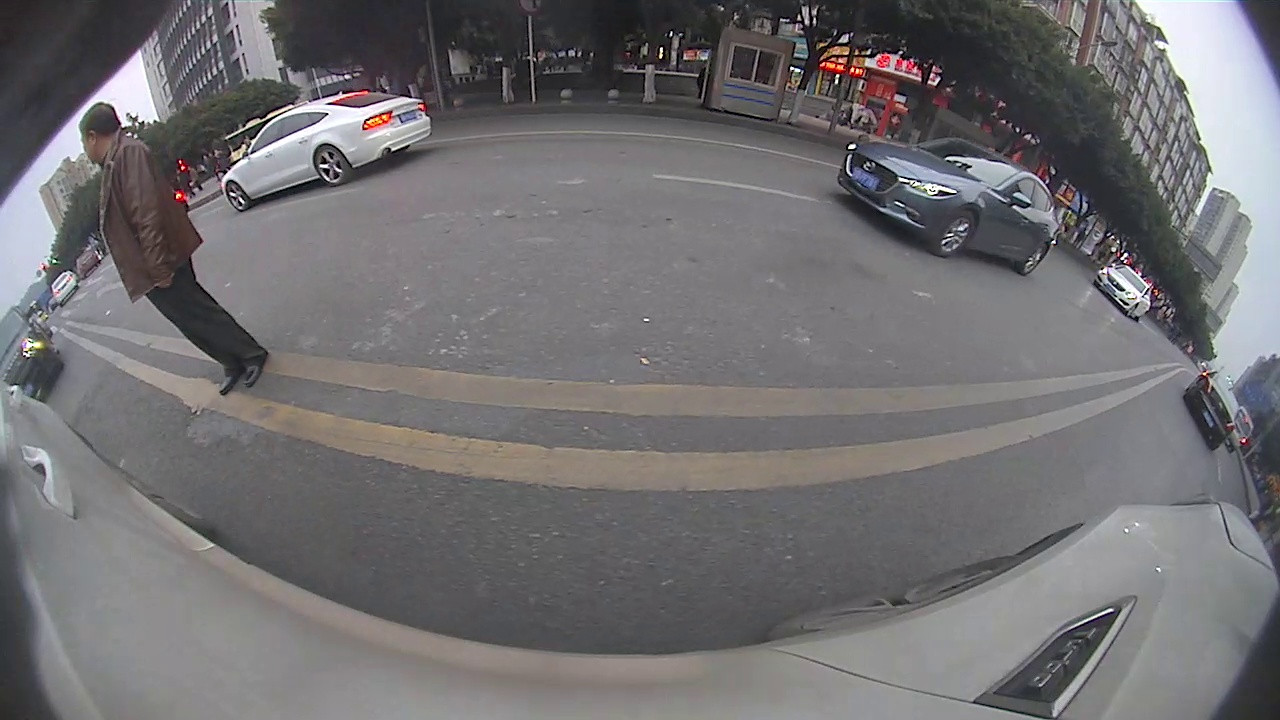car: (835, 138, 1061, 277), (219, 89, 433, 215), (1186, 371, 1241, 452), (1095, 261, 1152, 323)
front: (936, 213, 977, 260), (226, 178, 249, 212)
person: (80, 99, 246, 397)
rear: (313, 146, 351, 188), (1021, 244, 1053, 278)
